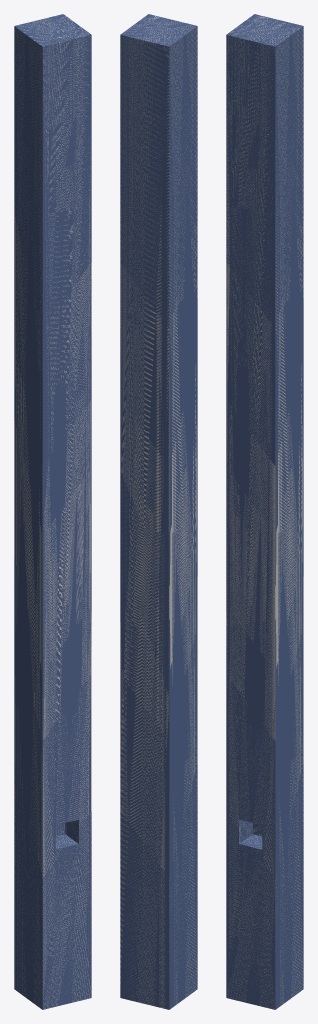
The model's file is original-4.obj.
3 views of the same model, side by side, from view 1: azimuth 30°, elevation 25°; view 2: azimuth 150°, elevation 25°; view 3: azimuth 330°, elevation 25° (orthographic).
Visible parts, largest first — view 1: Leg4/Leg12/mesh2/mesh2-geometry#mesh2-geometry; view 2: Leg4/Leg12/mesh2/mesh2-geometry#mesh2-geometry; view 3: Leg4/Leg12/mesh2/mesh2-geometry#mesh2-geometry.
Part boxes in pixels (<box>): Leg4/Leg12/mesh2/mesh2-geometry#mesh2-geometry: <box>14,14,91,1009</box>; Leg4/Leg12/mesh2/mesh2-geometry#mesh2-geometry: <box>120,14,197,1009</box>; Leg4/Leg12/mesh2/mesh2-geometry#mesh2-geometry: <box>226,14,303,1009</box>.
Size of the model in its own units: 0.0465 by 0.8707 by 0.0465.
